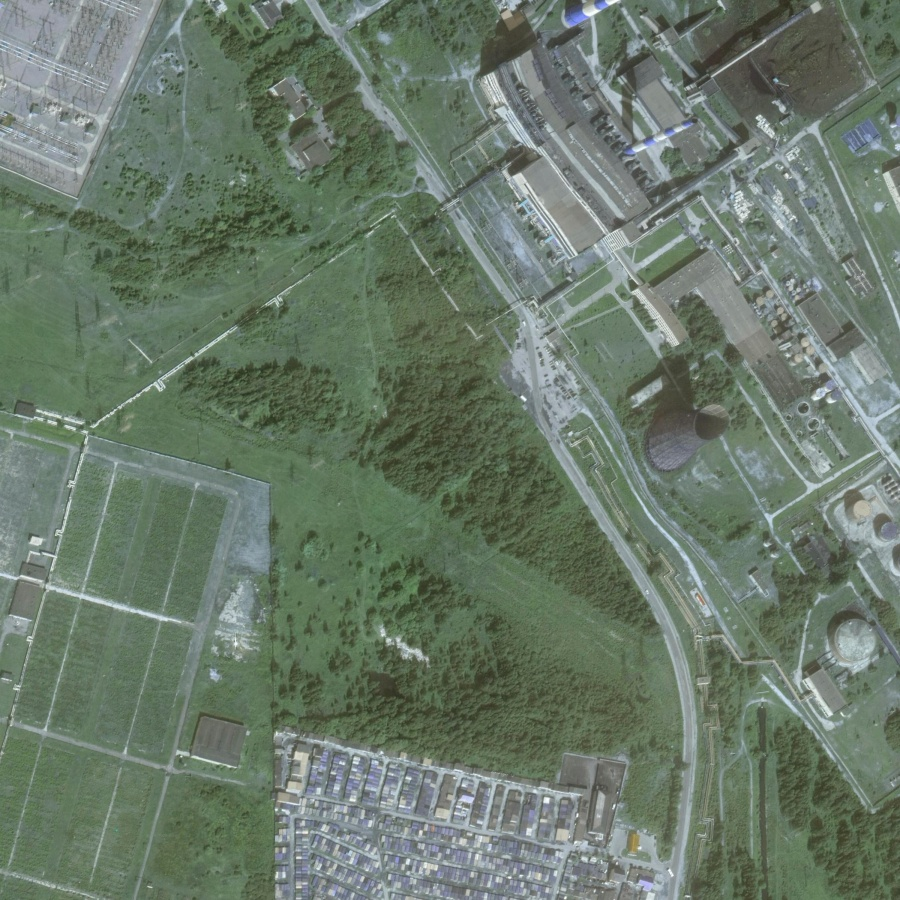PowerPlant: (620, 353, 749, 483)
